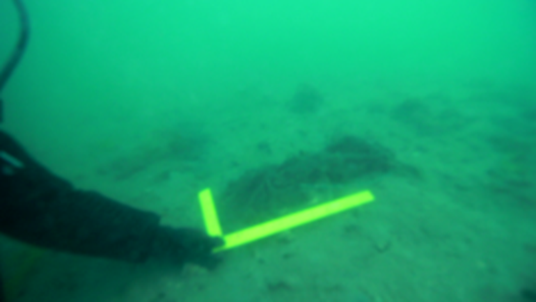fishing net: (215, 132, 398, 232)
